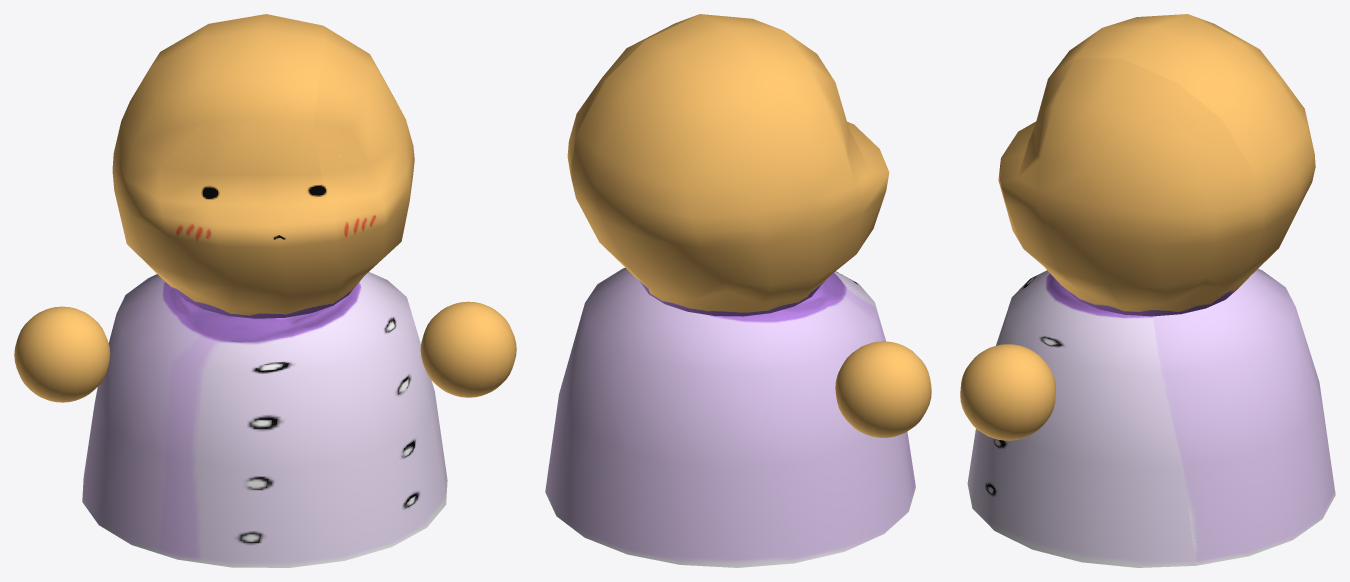
The model's file is characterpurple.obj.
3 views of the same model, side by side, from view 1: azimuth 30°, elevation 25°; view 2: azimuth 150°, elevation 25°; view 3: azimuth 270°, elevation 25° (orthographic).
Visible parts, largest first — view 1: polySurface4 polySurface7, polySurface5 polySurface4, polySurface4 polySurface6; view 2: polySurface4 polySurface7, polySurface4 polySurface6; view 3: polySurface4 polySurface7, polySurface5 polySurface4.
Boxes of the visible parts, x1,y1,x2,y2 form: polySurface4 polySurface7: (82, 14, 447, 567); polySurface5 polySurface4: (420, 301, 516, 397); polySurface4 polySurface6: (14, 306, 110, 402); polySurface4 polySurface7: (545, 14, 915, 567); polySurface4 polySurface6: (835, 341, 931, 437); polySurface4 polySurface7: (967, 14, 1335, 567); polySurface5 polySurface4: (960, 344, 1055, 440).
Size of the model in its own units: 2.04 by 2.28 by 1.68.
3 materials, 3 textured.
